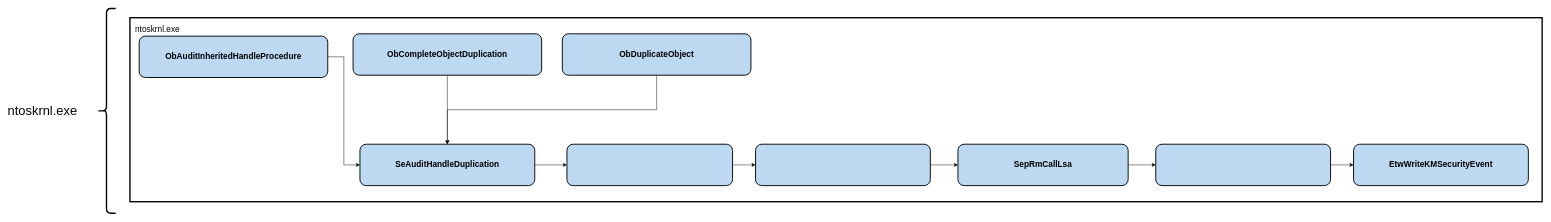
This 1551x222 diagram has some shape labels left out. Here are the shapes that lost their labels. From the top down, the centre of each, then its label:
At (649,165): "SepAdtLogAuditRecord".
At (843,165): "SepQueueWorkItem".
At (1243,165): "AdtpWriteToEtw".
